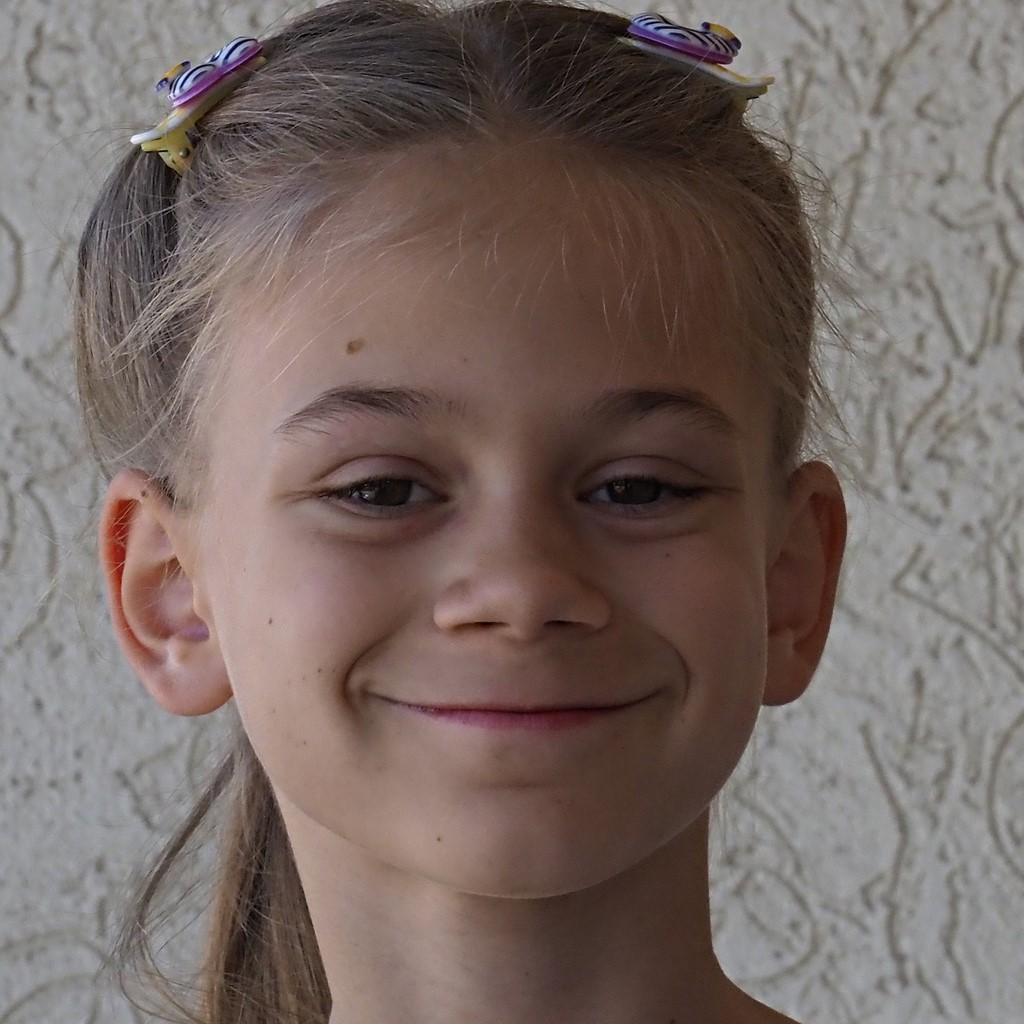sin_mascara: (158, 87, 793, 925)
